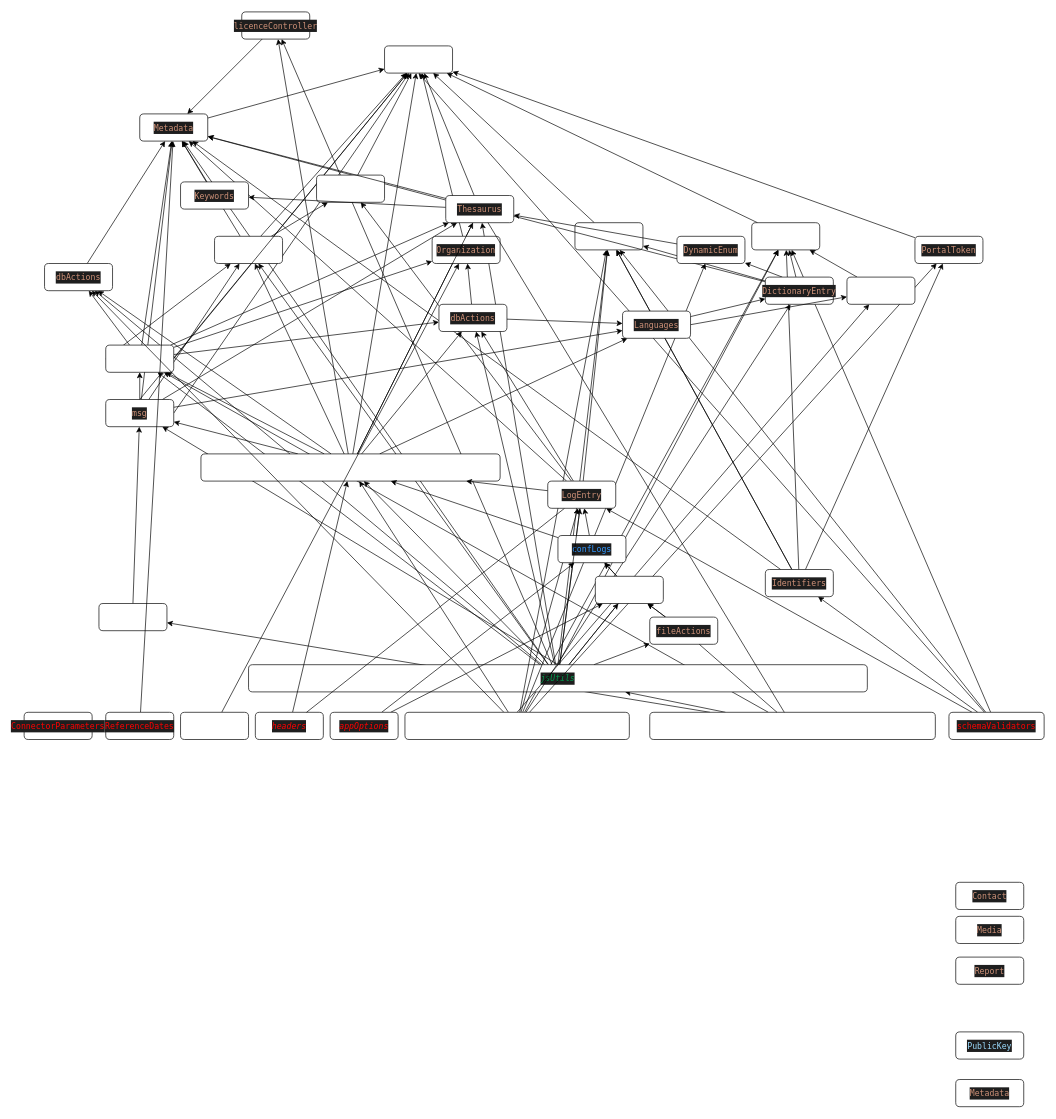
This 1056x1119 diagram has some shape labels left out. Here are the shapes that lost their labels. From the top down, the centre of each, then its label:
pixel 418 59: dbQueries
pixel 350 188: crypto
pixel 248 250: jsonAccess
pixel 608 236: SkosScheme
pixel 785 236: SkosConcept
pixel 880 290: DictionaryList
pixel 139 358: errors
pixel 350 467: logging
pixel 629 590: confSystem
pixel 132 617: lang
pixel 214 726: GpsCoordinates
pixel 516 726: dbFields
pixel 792 726: confApi
